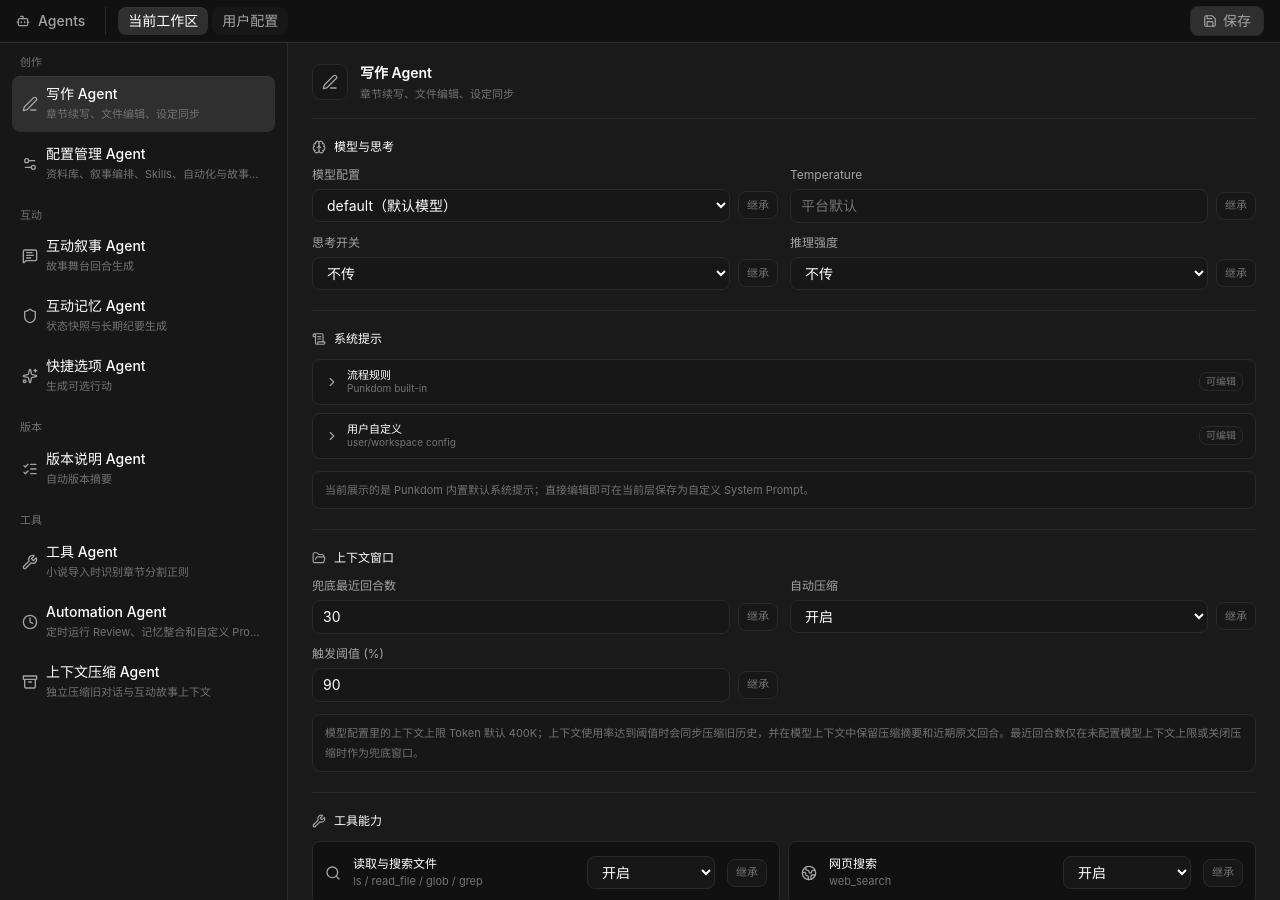
Test case: AgentsView › shows context compaction prompt and target ratio settings
The width and height of the screenshot is (1280, 900).
Click the button "上下文压缩 Agent 独立压缩旧对话与互动故事上下文": coordinates (144, 682) [12, 654, 275, 710]
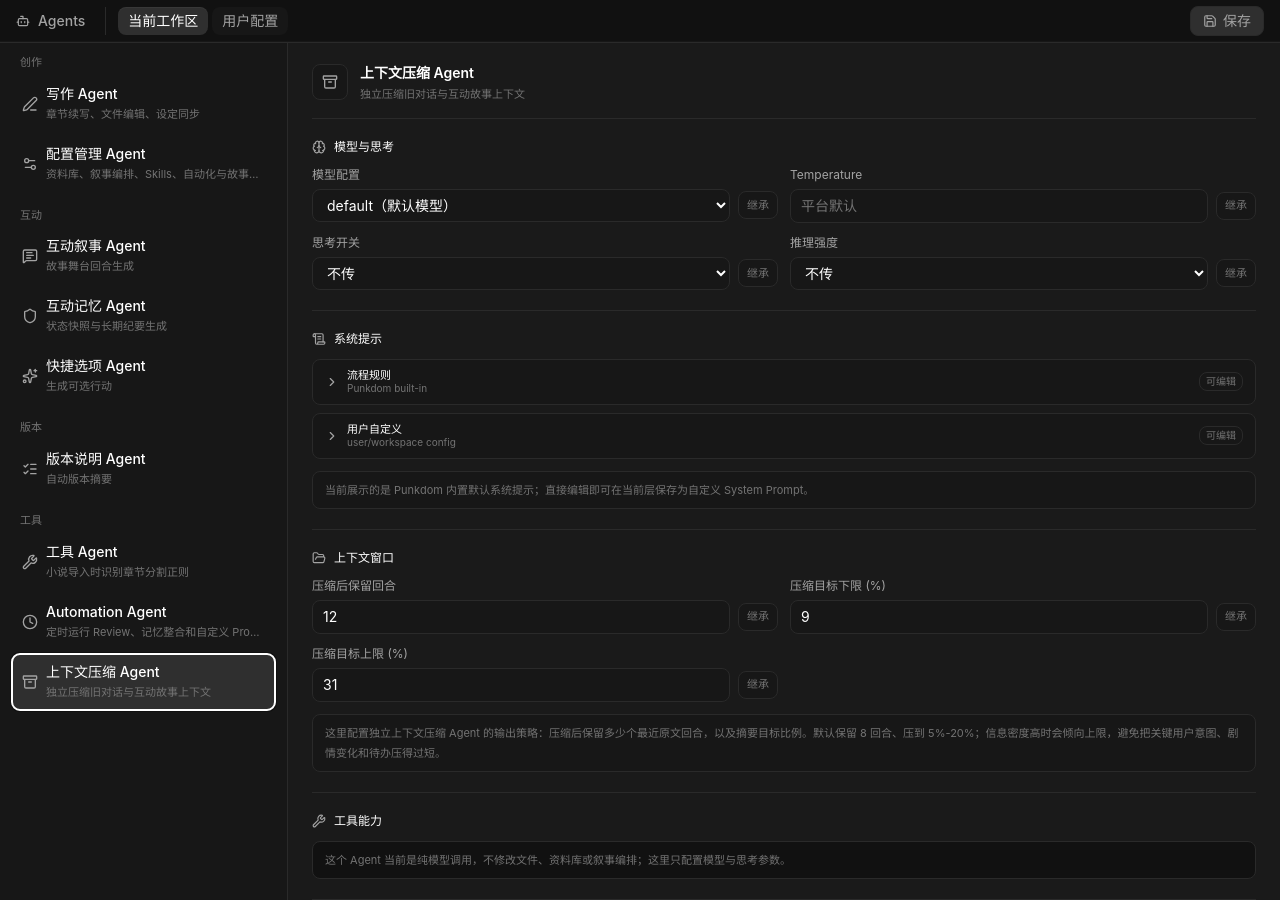
Check: the text "压缩目标下限 (%)" is shown, box [790, 578, 886, 593]
Check: the text "压缩目标上限 (%)" is shown, box [312, 646, 408, 661]
Check: the text "压缩后保留回合" is shown, box [312, 578, 396, 593]
